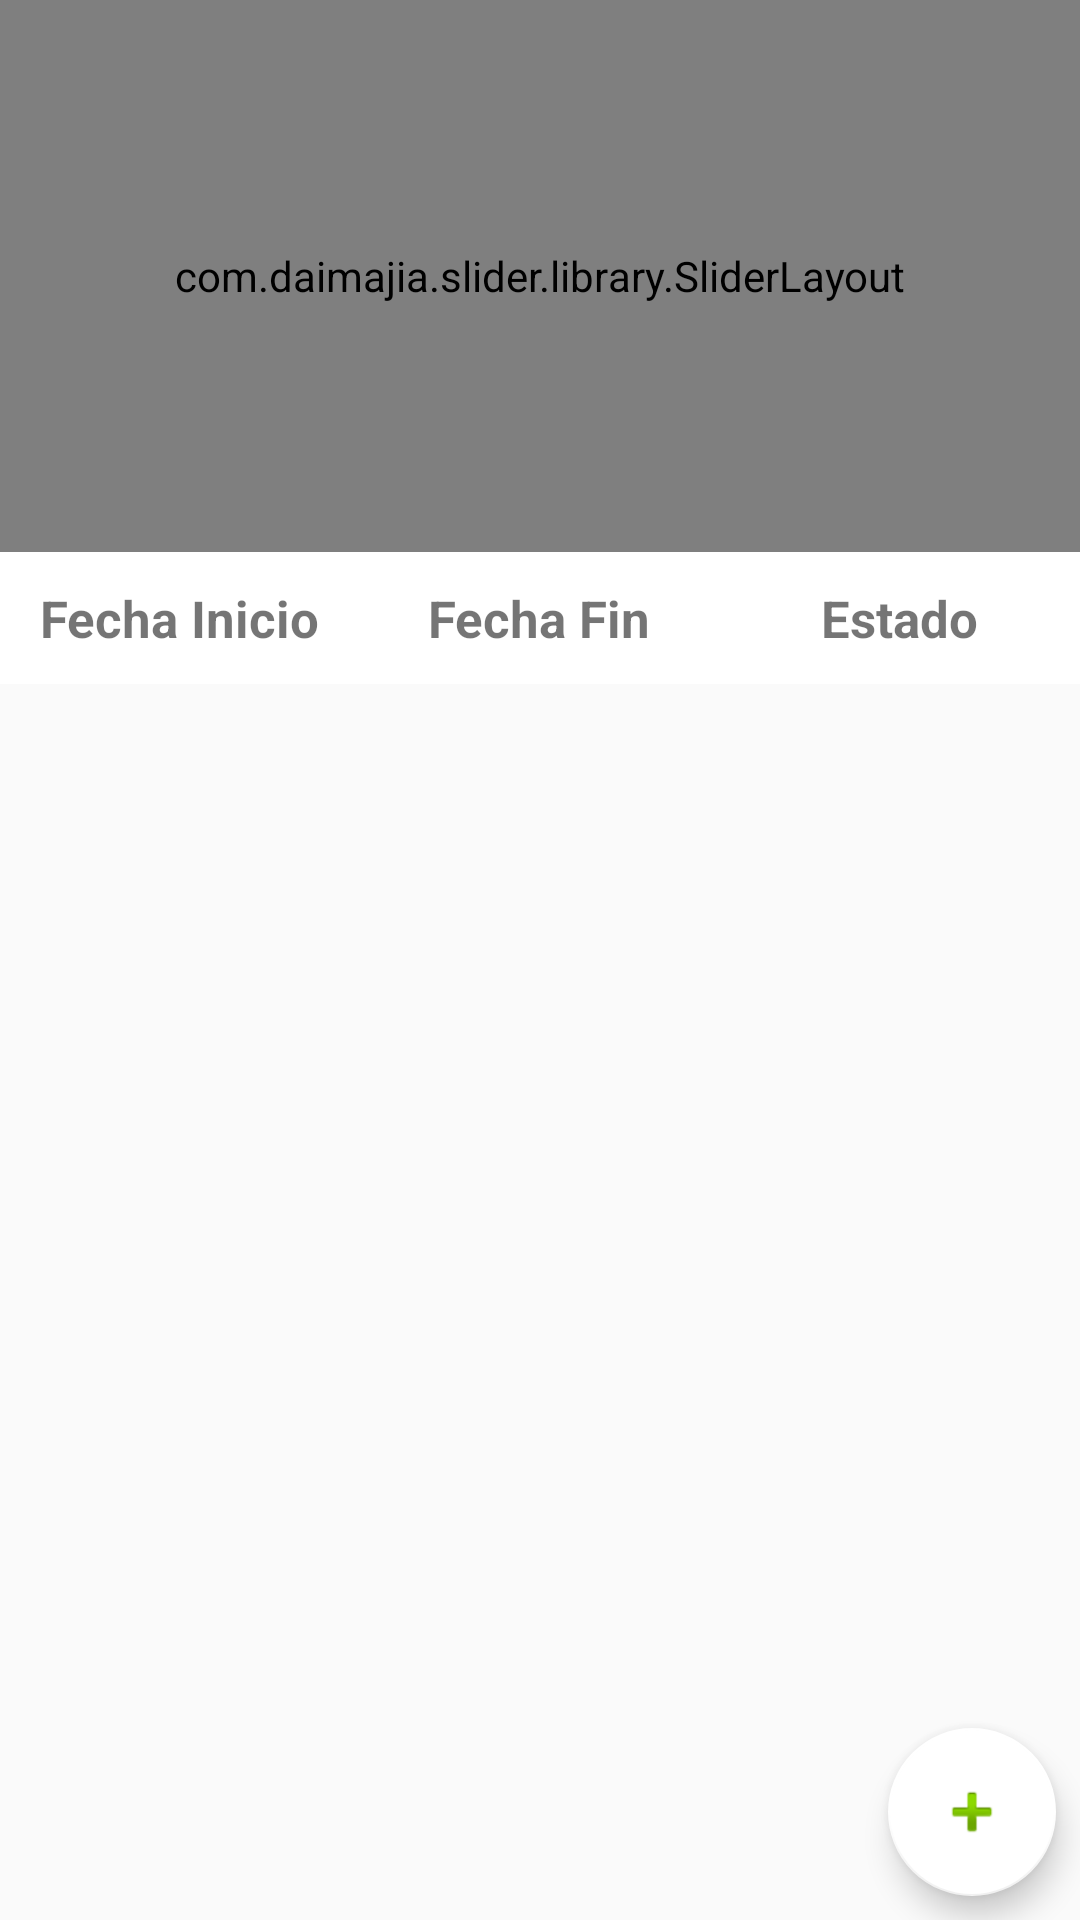

Screen size 1080x1920. Icon name, then its box in pixels as (x1, y1, x2, y2):
add: (894, 1792, 1056, 1896)
